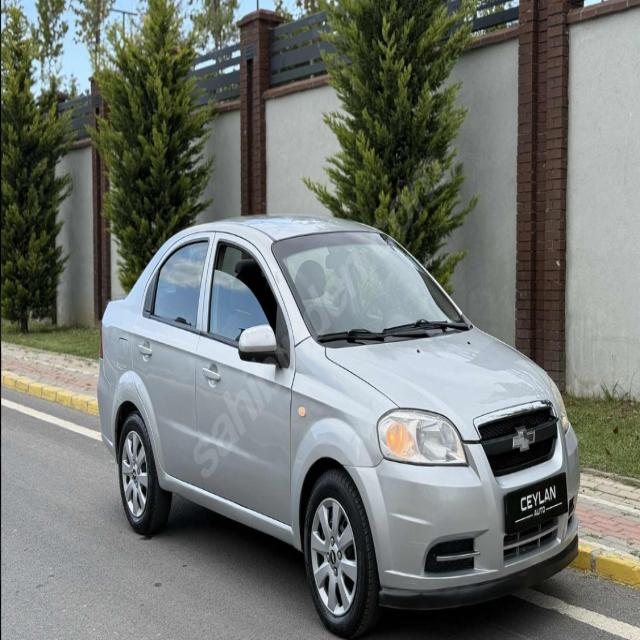chevrolet: (510, 425, 538, 457)
